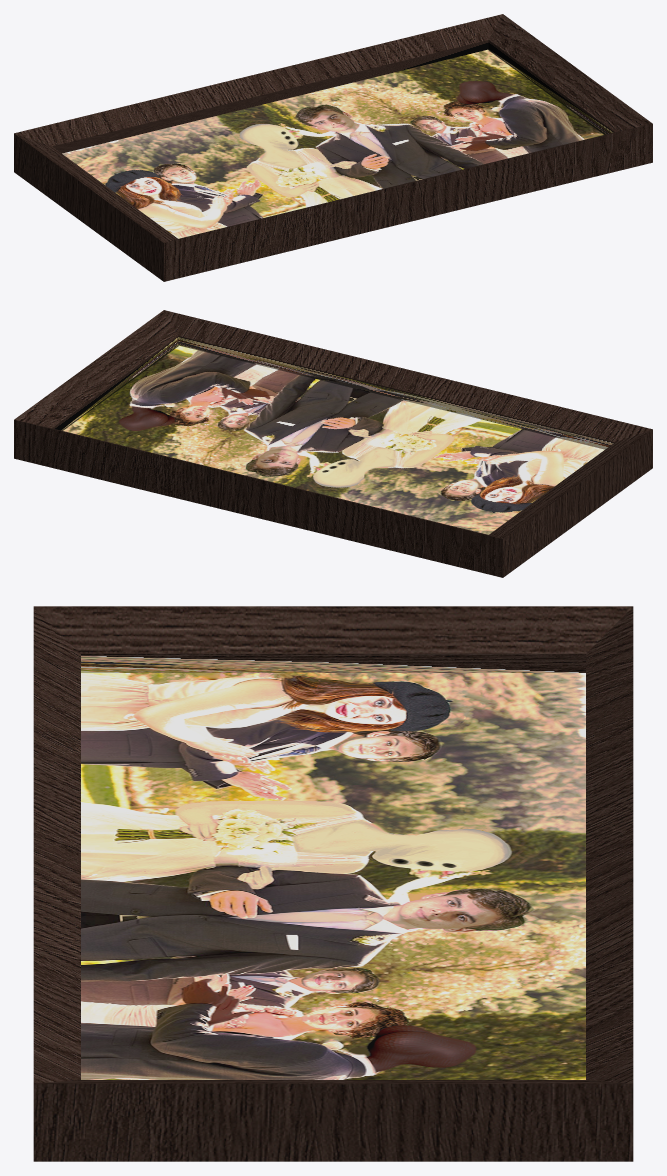
Rendered from mariage 2.FBX.
3 renders of one model, top to bottom at view 1: azimuth 30°, elevation 25°; view 2: azimuth 150°, elevation 25°; view 3: azimuth 270°, elevation 25°, orthographic. The views are drawn at different scales.
Visible parts, largest first — view 1: Boîte013; view 2: Boîte013; view 3: Boîte013.
Part boxes in pixels (<box>): Boîte013: <box>14,14,652,281</box>; Boîte013: <box>14,310,652,577</box>; Boîte013: <box>33,606,633,1161</box>.
Bounding box in the file's own units: 154 × 11.66 × 81.56.
